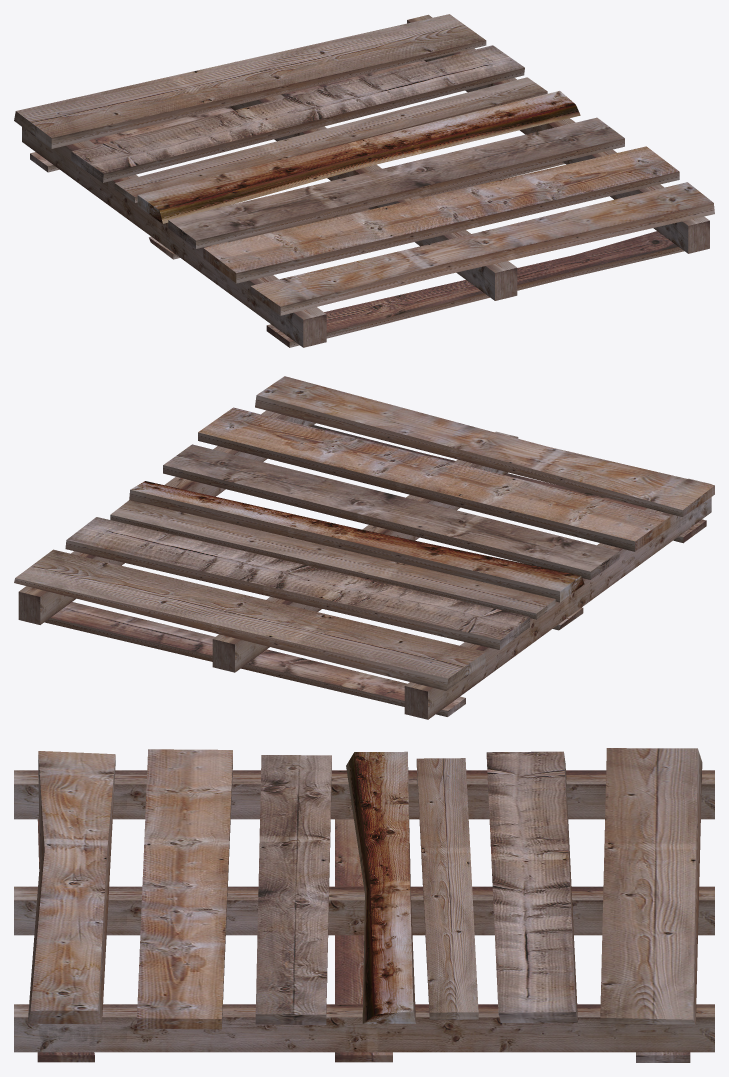
File: Pallet.fbx
3 views of the same model, one above another, from view 1: azimuth 30°, elevation 25°; view 2: azimuth 150°, elevation 25°; view 3: azimuth 270°, elevation 25° (orthographic). The views are drawn at different scales.
Parts seen in each view (by area): view 1: pCube24; view 2: pCube24; view 3: pCube24.
Part boxes in pixels (x1,y1,x2,y2): pCube24: [14, 14, 714, 347]; pCube24: [14, 376, 714, 719]; pCube24: [14, 748, 714, 1062].
Size of the model in its own units: 9.72 by 0.9522 by 10.76.
